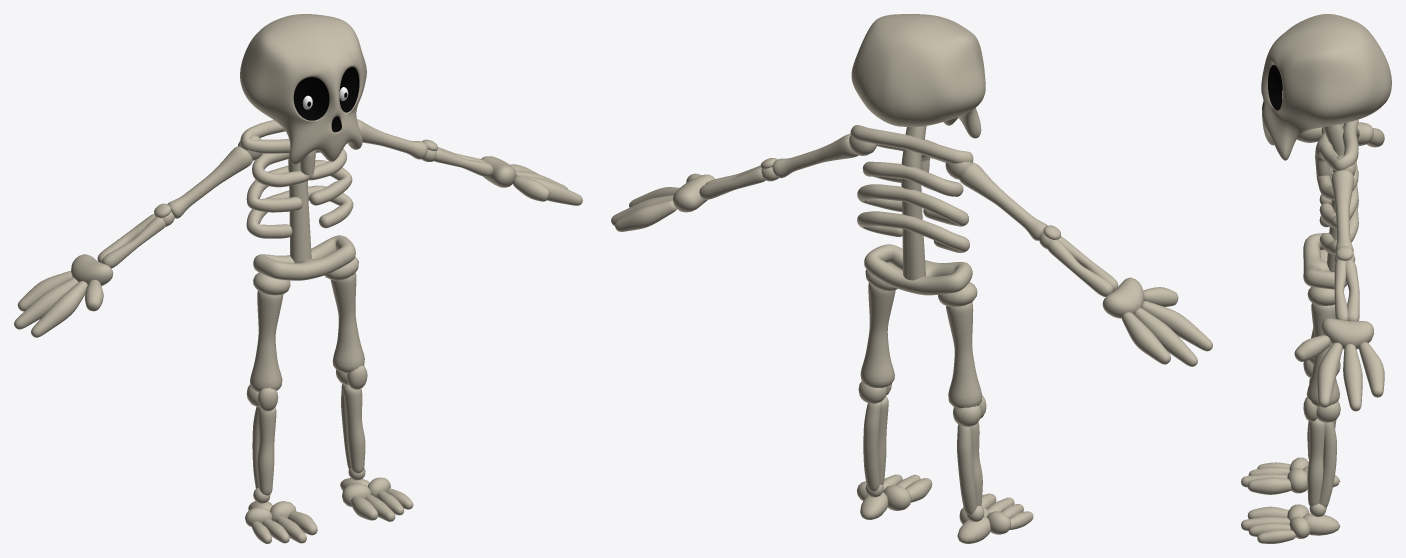
File: skeleton.fbx
3 renders of one model, left to right at view 1: azimuth 30°, elevation 25°; view 2: azimuth 150°, elevation 25°; view 3: azimuth 270°, elevation 25°, orthographic. The views are drawn at different scales.
Visible parts, largest first — view 1: Plane; view 2: Plane; view 3: Plane.
Boxes of the visible parts, x1,y1,x2,y2 form: Plane: (14, 14, 582, 543); Plane: (611, 14, 1212, 543); Plane: (1241, 14, 1391, 543).
Size of the model in its own units: 733 by 611 by 172.
